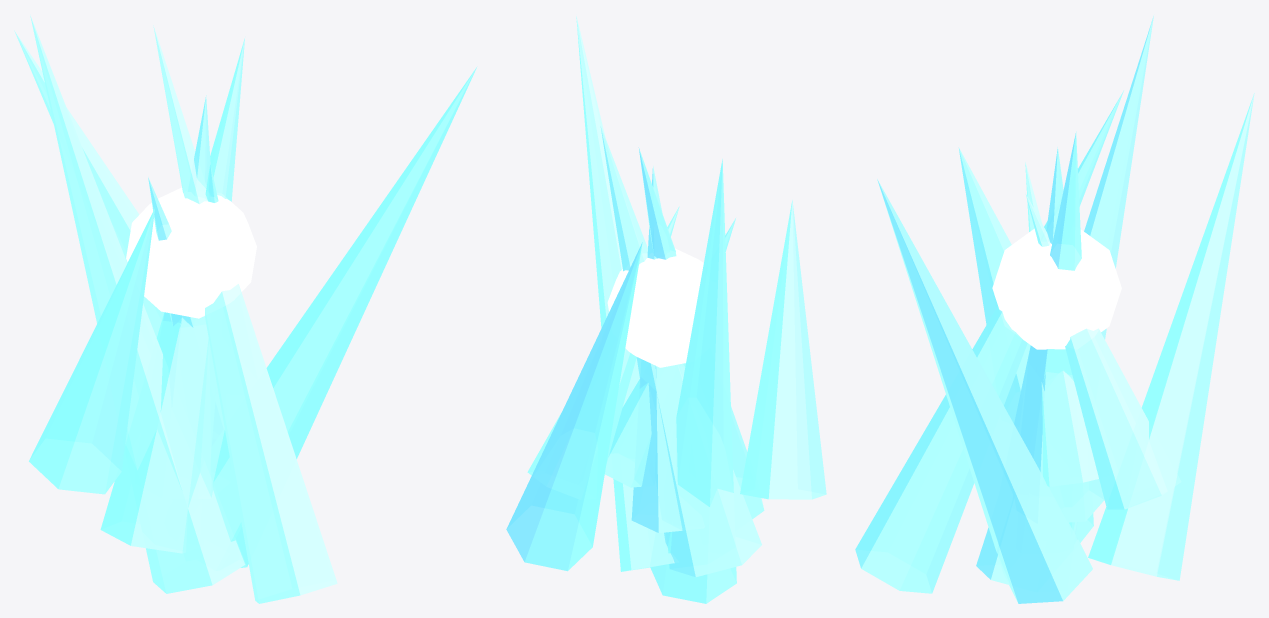
File: frost.glb
3 renders of one model, left to right at view 1: azimuth 30°, elevation 25°; view 2: azimuth 150°, elevation 25°; view 3: azimuth 270°, elevation 25°, orthographic. The views are drawn at different scales.
Parts seen in each view (by area): view 1: Crystal.008, Crystal.005, Crystal, Crystal.001, Crystal.006, Core, Crystal.003, Crystal.004, Crystal.007; view 2: Crystal.003, Crystal.005, Crystal.006, Crystal.001, Crystal, Core, Crystal.004, Crystal.007, Crystal.008, Crystal.002; view 3: Crystal.003, Crystal, Crystal.008, Core, Crystal.002, Crystal.005, Crystal.007, Crystal.004, Crystal.001, Crystal.006.
Part boxes in pixels (box(x1,y1,x2,y2)): Crystal.008: box(153, 25, 337, 603); Crystal.005: box(30, 15, 245, 593); Crystal: box(213, 66, 477, 567); Crystal.001: box(100, 38, 244, 553); Crystal.006: box(29, 208, 154, 494); Core: box(126, 187, 256, 318); Crystal.003: box(14, 30, 164, 337); Crystal.004: box(163, 95, 224, 498); Crystal.007: box(148, 177, 195, 327); Crystal.003: box(506, 242, 642, 571); Crystal.005: box(650, 159, 736, 603); Crystal.006: box(740, 200, 826, 499); Crystal.001: box(600, 126, 761, 577); Crystal: box(576, 16, 674, 571); Core: box(607, 248, 703, 367); Crystal.004: box(631, 166, 685, 532); Crystal.007: box(605, 218, 735, 487); Crystal.008: box(638, 147, 764, 518); Crystal.002: box(527, 206, 679, 475); Crystal.003: box(1088, 93, 1254, 580); Crystal: box(877, 179, 1092, 603); Crystal.008: box(855, 90, 1123, 593); Core: box(992, 228, 1121, 349); Crystal.002: box(1025, 193, 1167, 509); Crystal.005: box(976, 15, 1153, 584); Crystal.007: box(1025, 162, 1098, 486); Crystal.004: box(1019, 147, 1104, 522); Crystal.001: box(1014, 131, 1093, 542); Crystal.006: box(958, 147, 1030, 423).
Bounding box in the file's own units: 1.53 × 2.25 × 1.54.
